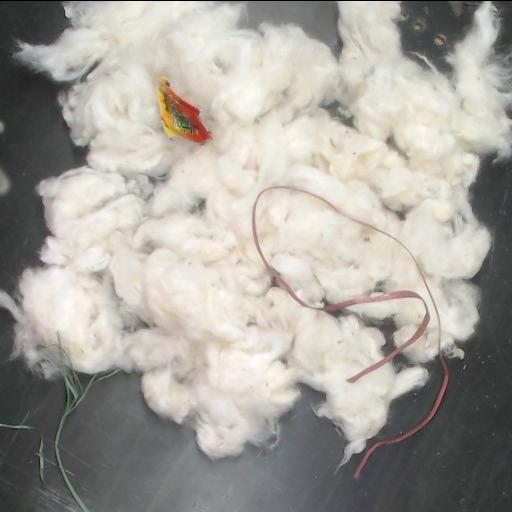conveyor belt: (61, 158, 511, 512), (0, 1, 86, 292), (0, 309, 77, 512), (400, 1, 478, 67)
cotton: (0, 1, 511, 464)
thread: (252, 186, 440, 381), (354, 343, 449, 475), (54, 346, 117, 512), (37, 435, 48, 481), (0, 421, 35, 428)
